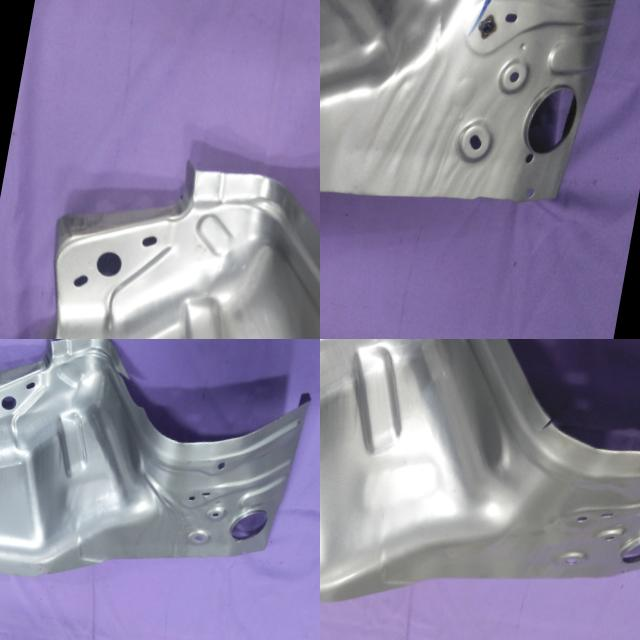Defect: (93, 339, 177, 424), (534, 410, 556, 444)
Healthy: (320, 0, 640, 296), (0, 126, 320, 339)
